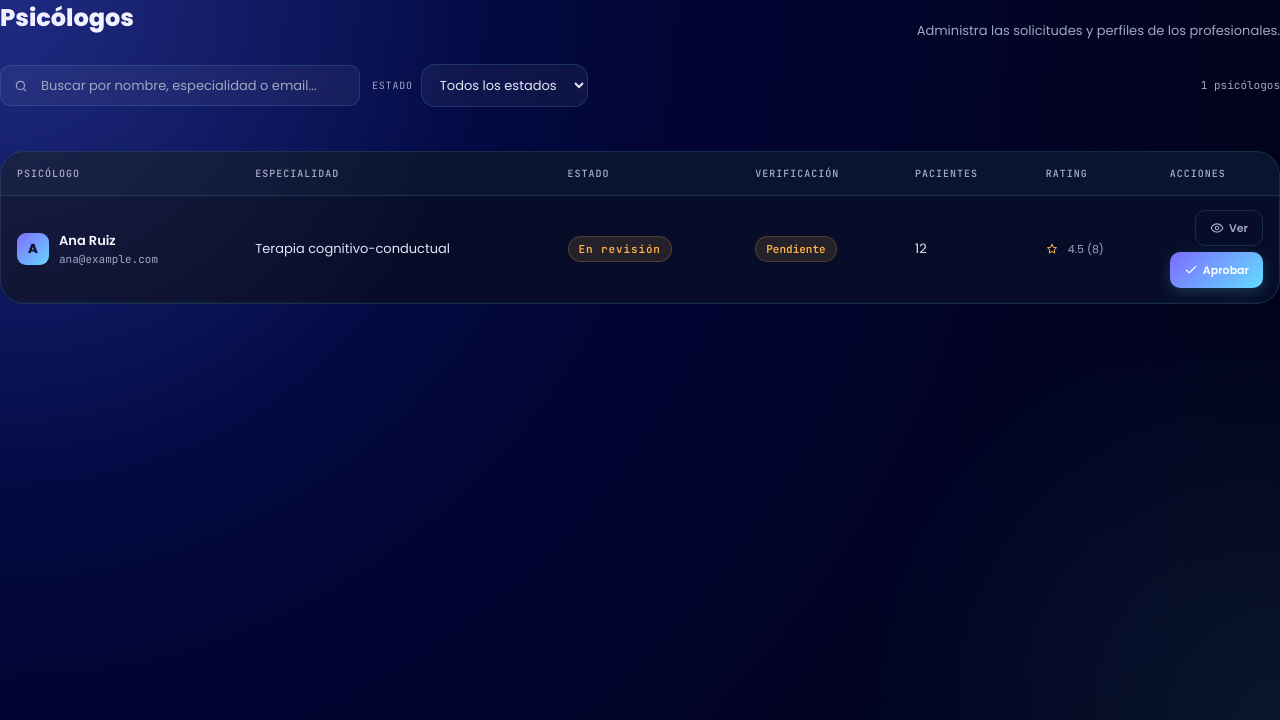
Test: AdminPsychologistsPage › opens the profile detail modal with the full record
What coordinates should you click on to do the following:
click the button "Ver"
I would click on:
 (1229, 228)
Its box is [1195,210,1263,246].
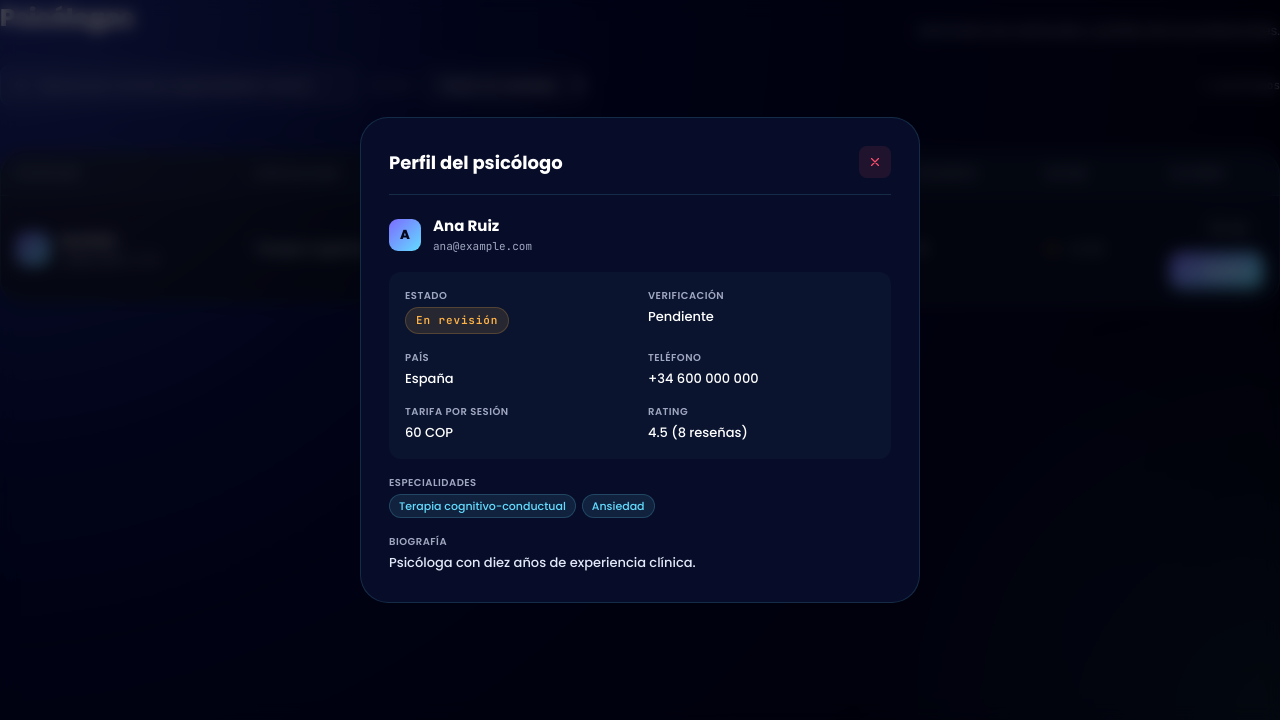
Expected: the text "España" is shown, [405,369,454,388]
Expected: the text "+34 600 000 000" is shown, [648,369,759,388]
Expected: the text "60 COP" is shown, [405,423,453,442]
What coordinates should you click on to do the following:
click the button named "Cerrar"
I would click on:
 (875, 162)
Its box is [859,146,891,178].
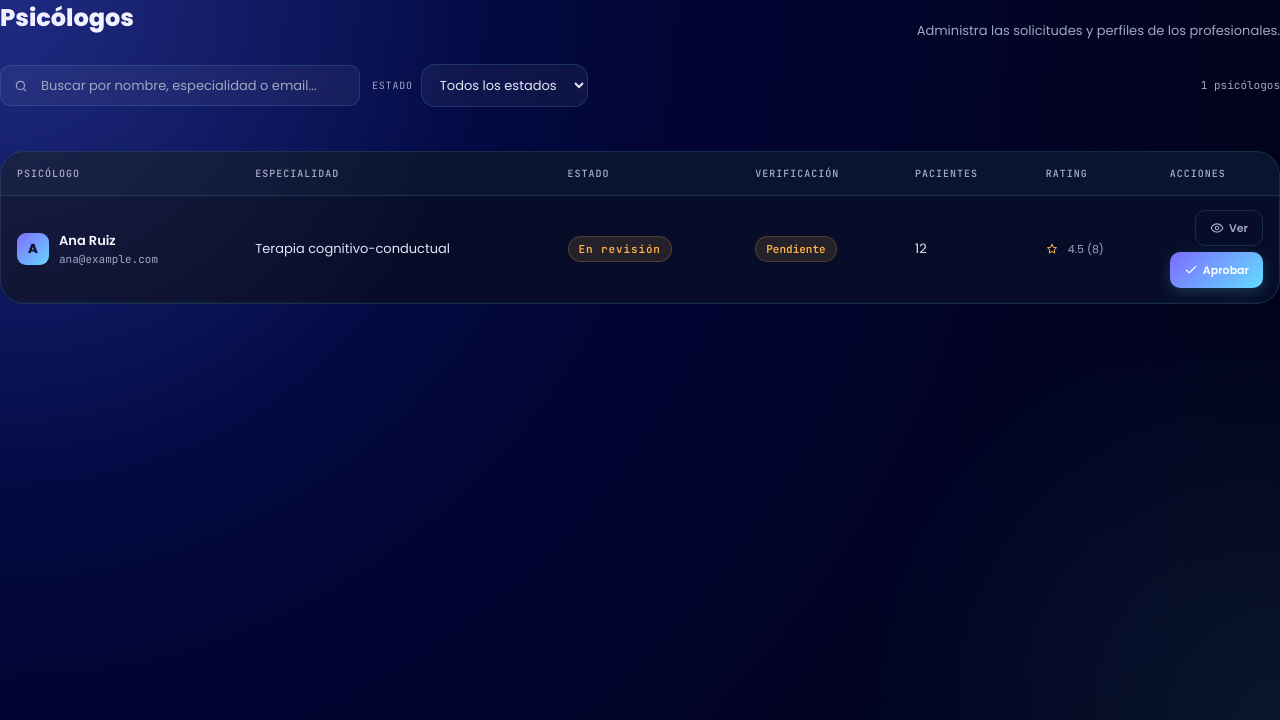
Expected: the dialog is gone
